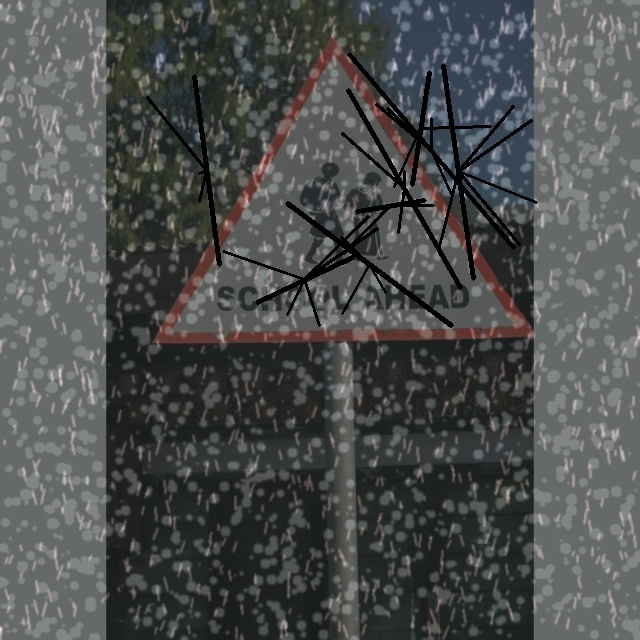School_Ahead: (179, 36, 524, 348)
